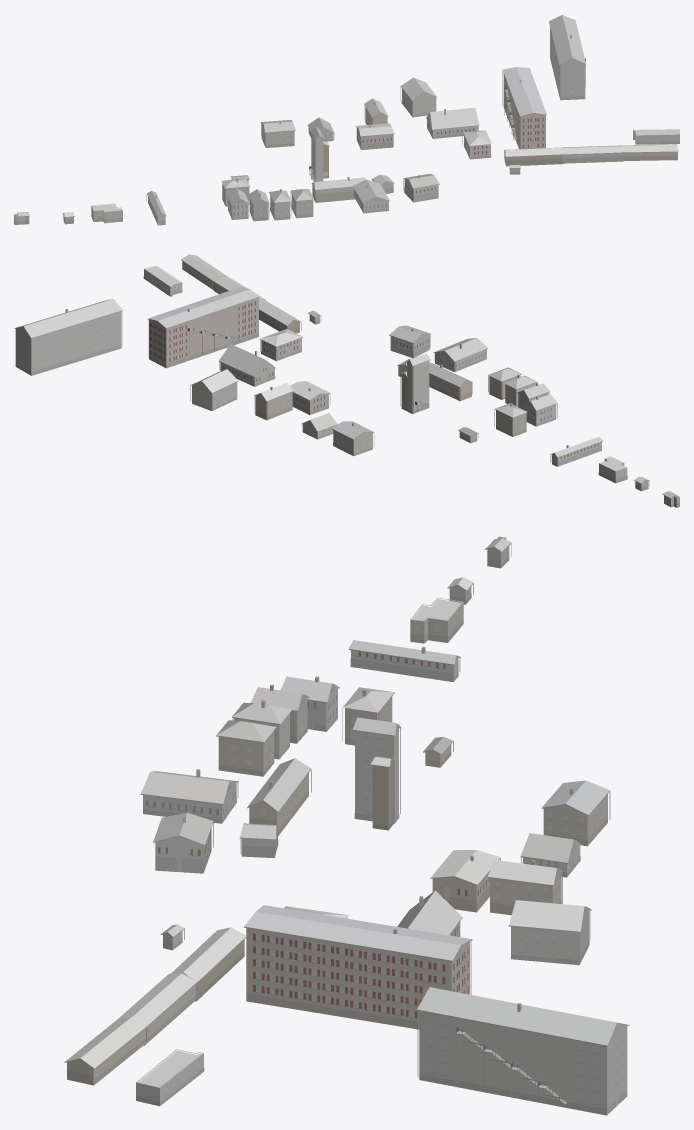
3 views of the same model, one above another, from view 1: azimuth 30°, elevation 25°; view 2: azimuth 150°, elevation 25°; view 3: azimuth 270°, elevation 25° (orthographic). The views are drawn at different scales.
Parts seen in each view (by area): view 1: bld; view 2: bld; view 3: bld.
Boxes of the visible parts, left/top/right/bottom form: bld: left=14, top=15, right=679, bottom=225; bld: left=14, top=254, right=679, bottom=507; bld: left=64, top=536, right=629, bottom=1115.
Bounding box in the file's own units: 265 × 22.16 × 110.
